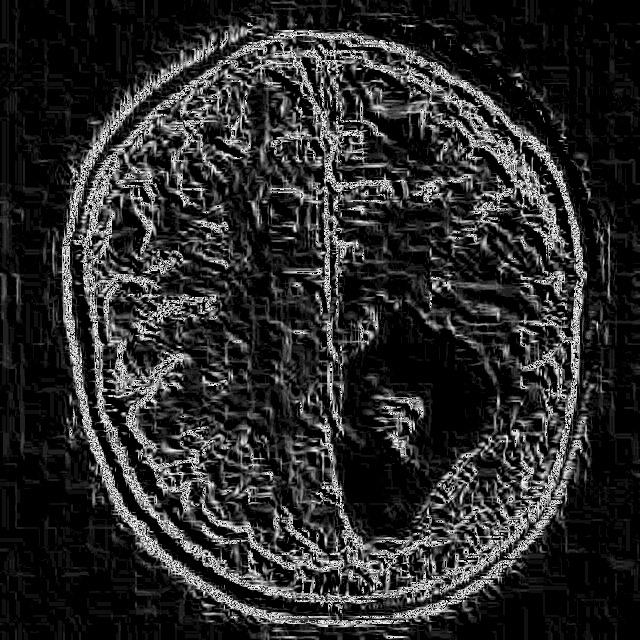Brain-Tumor: (326, 279, 511, 564)
